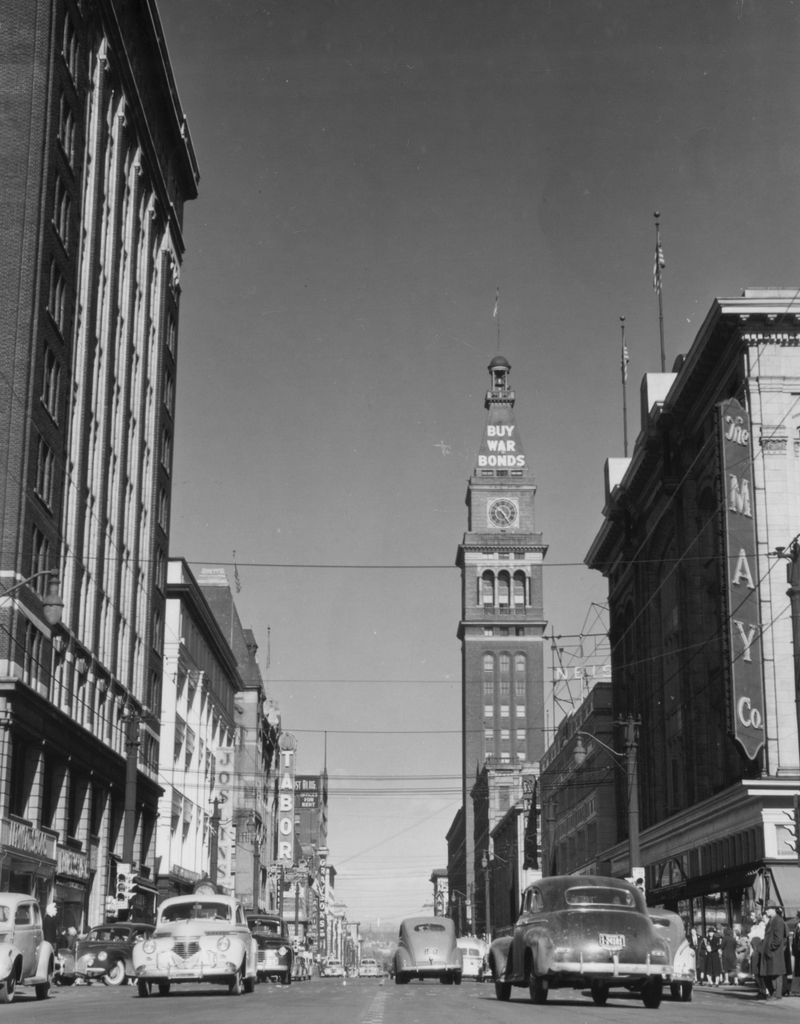Car: (0, 882, 703, 1013), (497, 880, 714, 1005)
